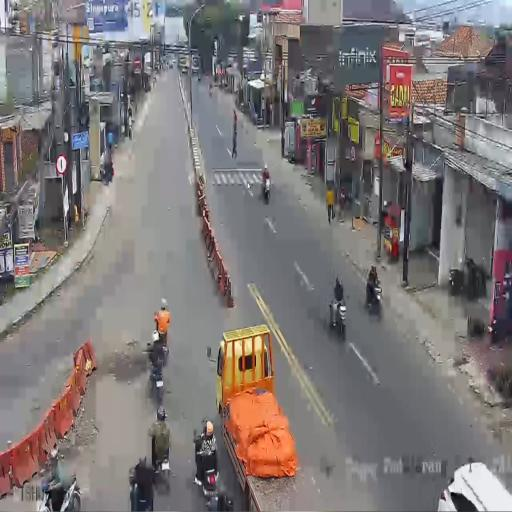3: (191, 53, 200, 76), (179, 54, 189, 74)
car: (435, 459, 512, 509), (170, 56, 177, 70)
truck: (328, 294, 346, 340), (365, 278, 382, 318), (208, 82, 213, 97)
